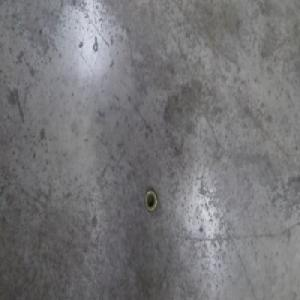Nut: (144, 188, 157, 215)
